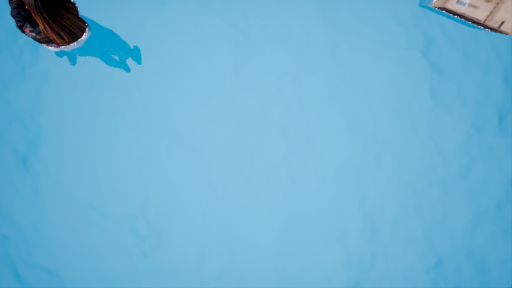person: (11, 2, 159, 82)
